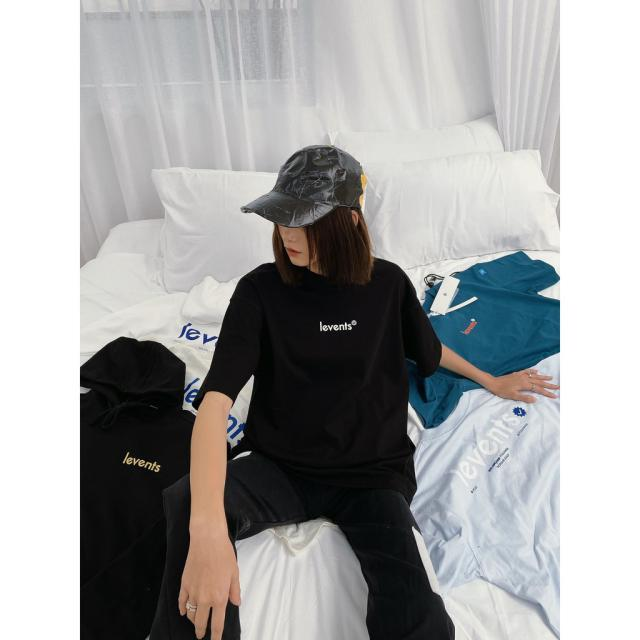Shirt: (212, 259, 442, 484)
